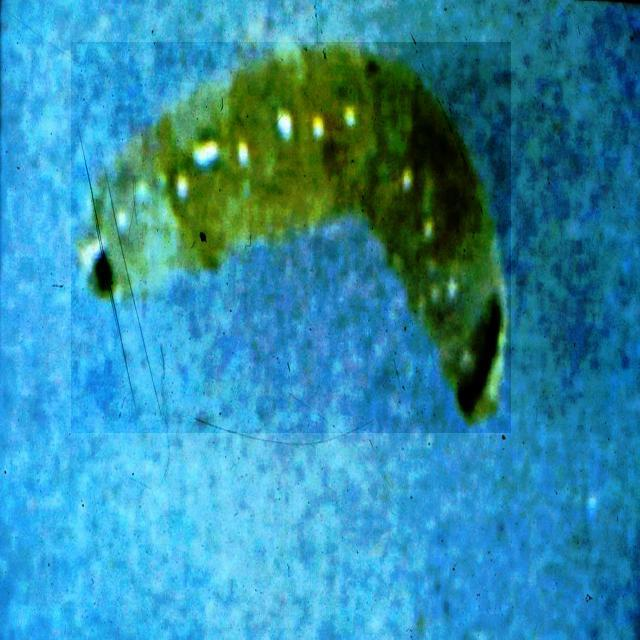whorl-maggot: (71, 43, 511, 433)
